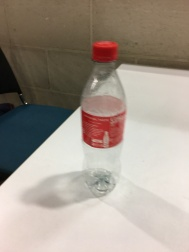bottle_red: (77, 38, 137, 197)
